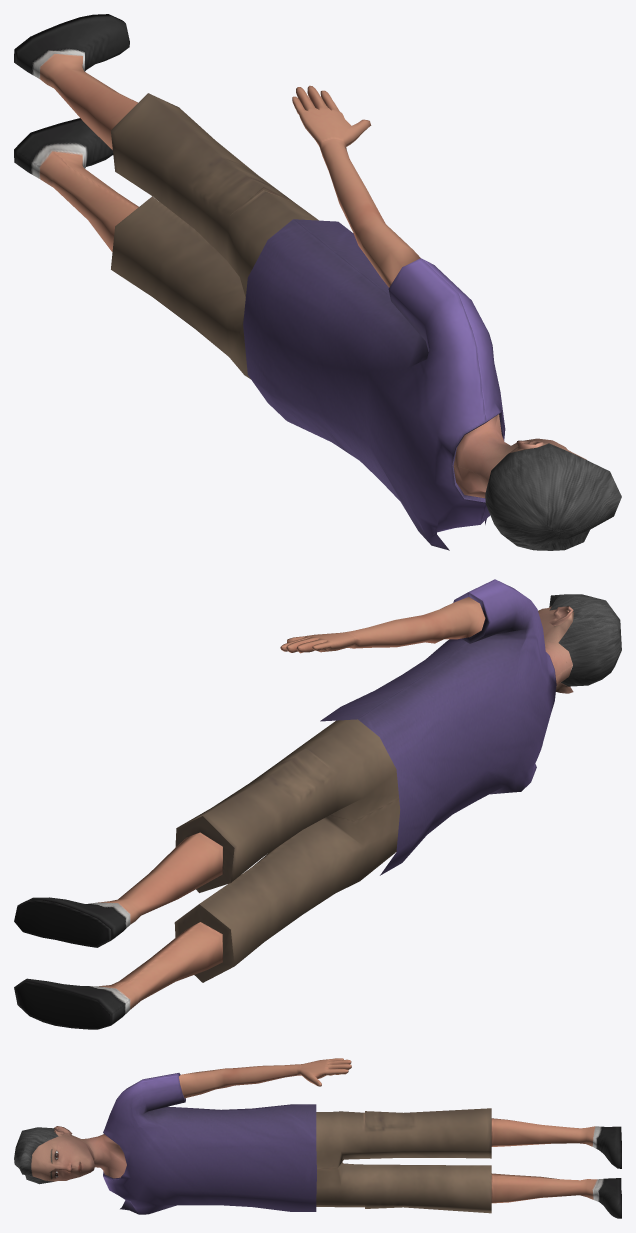
File: man_standing_waving.glb
3 views of the same model, one above another, from view 1: azimuth 30°, elevation 25°; view 2: azimuth 150°, elevation 25°; view 3: azimuth 270°, elevation 25° (orthographic). The views are drawn at different scales.
Visible parts, largest first — view 1: world; view 2: world; view 3: world.
Part boxes in pixels (box(x1,y1,x2,y2)): world: box(14, 14, 621, 550); world: box(14, 579, 621, 1029); world: box(14, 1058, 621, 1218).
Bounding box in the file's own units: 0.3071 × 0.5191 × 1.77.
Materials: 1 (1 with a texture image).
